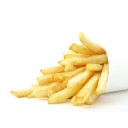frenchfries: (11, 33, 106, 104)
